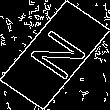N_SE: (20, 24, 90, 86)
